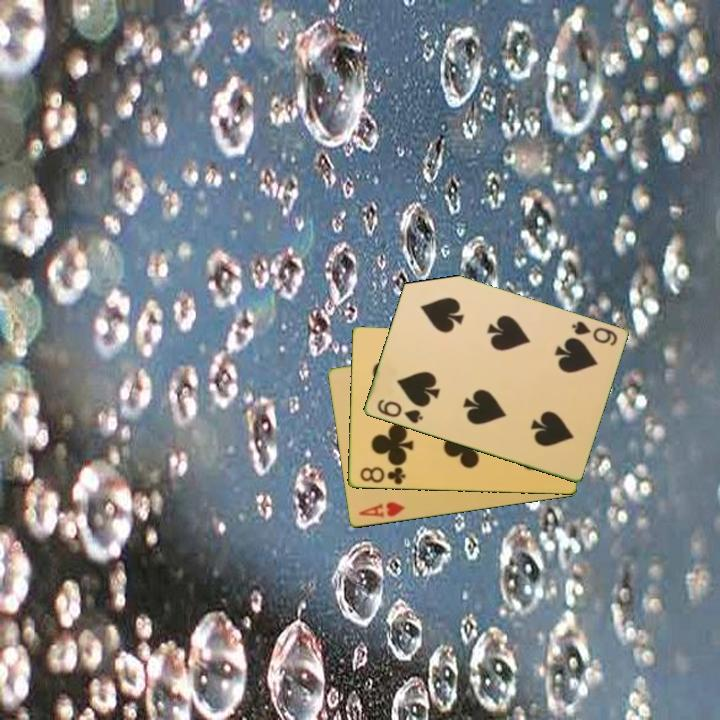6s: (568, 318, 620, 349), (373, 396, 426, 426)
8c: (356, 463, 407, 488)
Ah: (355, 498, 408, 521)
